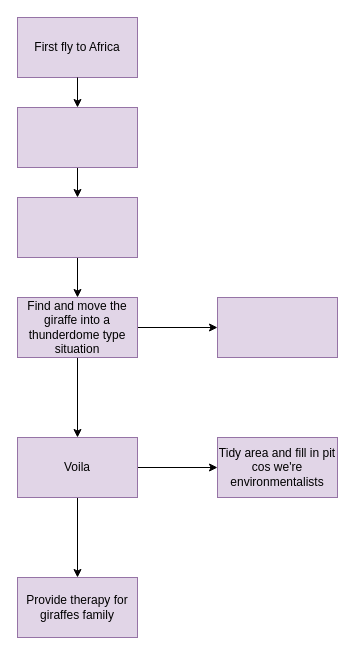
Image size: 355x655. Some labels were removed from this diagram. Here are the shapes that lost their labels. From the top down, the centre of each, then its label:
the point at 77,137: Dig a big pit
the point at 77,227: Put a load of predator animals into pit, legally change their names to 'Fridge'
the point at 277,327: could sell tickets to recoup costs
